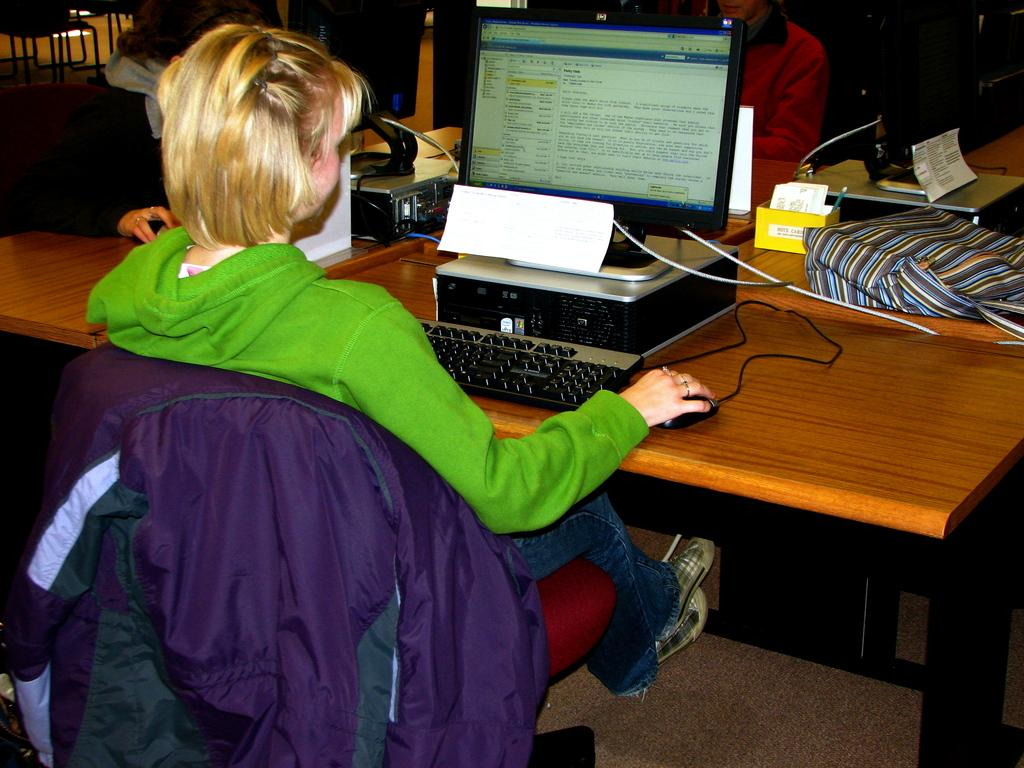Computer-keyboard: (415, 317, 646, 413)
Computer-monitor: (448, 17, 746, 257), (868, 0, 1023, 166)
